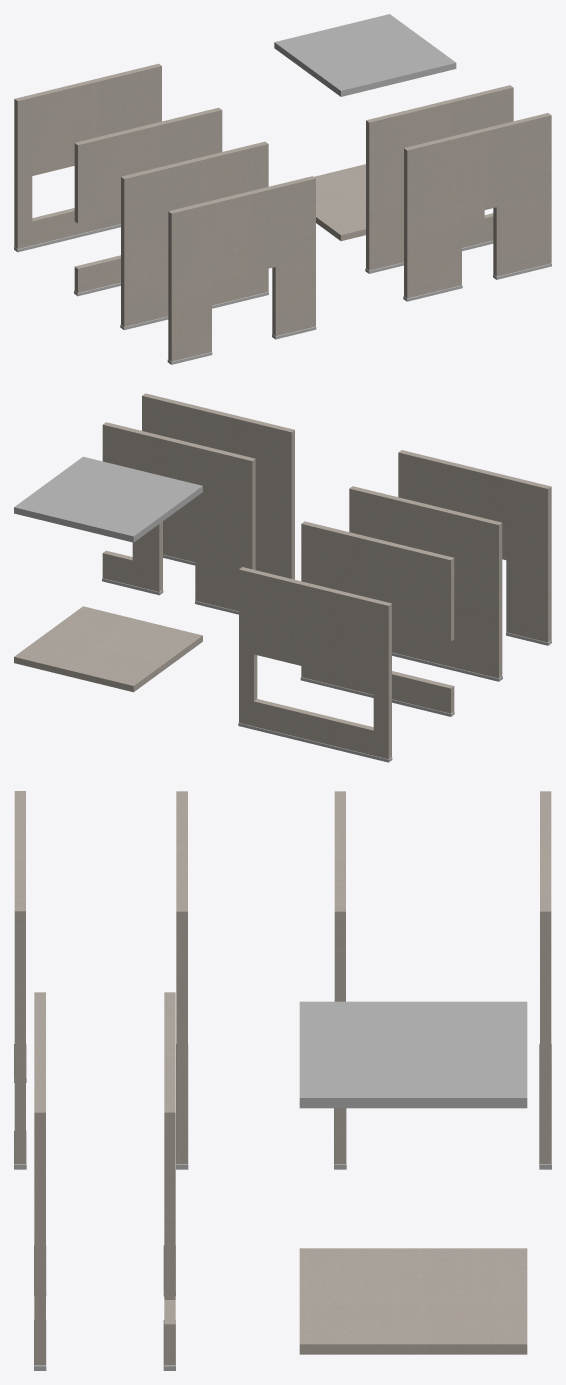
File: SF_WallCeilingFloor_NakedSingularity.fbx
3 renders of one model, top to bottom at view 1: azimuth 30°, elevation 25°; view 2: azimuth 150°, elevation 25°; view 3: azimuth 270°, elevation 25°, orthographic. The views are drawn at different scales.
Parts seen in each view (by area): view 1: door_module_02, single_door_module_03, wall_module_01, wall_module_04, door_module_03, wall_module_03, pCube15.001, pCube15; view 2: wall_module_04, door_module_03, wall_module_01, wall_module_03, single_door_module_03, door_module_02, pCube15.001, pCube15; view 3: pCube15.001, pCube15, wall_module_04, wall_module_01, door_module_03, door_module_02, single_door_module_03, wall_module_03.
Part boxes in pixels (<box>): door_module_02: <box>403,113,551,301</box>; single_door_module_03: <box>167,176,316,364</box>; wall_module_01: <box>120,141,268,330</box>; wall_module_04: <box>14,63,161,252</box>; door_module_03: <box>365,85,513,273</box>; wall_module_03: <box>74,107,222,296</box>; pCube15.001: <box>274,14,456,96</box>; pCube15: <box>314,164,365,241</box>; wall_module_04: <box>238,567,392,762</box>; door_module_03: <box>102,422,255,614</box>; wall_module_01: <box>349,486,502,681</box>; wall_module_03: <box>300,521,454,716</box>; single_door_module_03: <box>398,450,551,645</box>; door_module_02: <box>142,393,294,579</box>; pCube15.001: <box>14,456,202,542</box>; pCube15: <box>14,606,202,692</box>; pCube15.001: <box>299,1001,527,1108</box>; pCube15: <box>299,1248,527,1354</box>; wall_module_04: <box>539,791,551,1169</box>; wall_module_01: <box>176,791,188,1169</box>; door_module_03: <box>163,992,175,1370</box>; door_module_02: <box>34,992,46,1370</box>; single_door_module_03: <box>14,791,26,1169</box>; wall_module_03: <box>334,791,346,1169</box>.
Bounding box in the file's own units: 1338 × 500 × 945.
